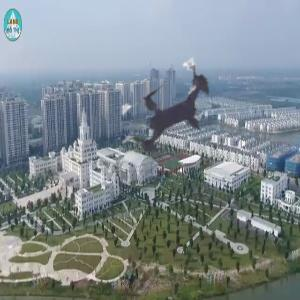drone: (86, 32, 254, 200)
